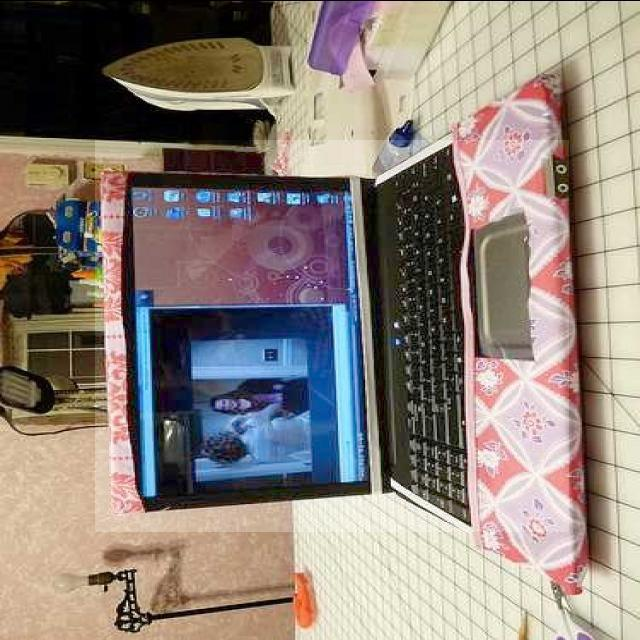-keyboard-: (95, 140, 569, 532)
